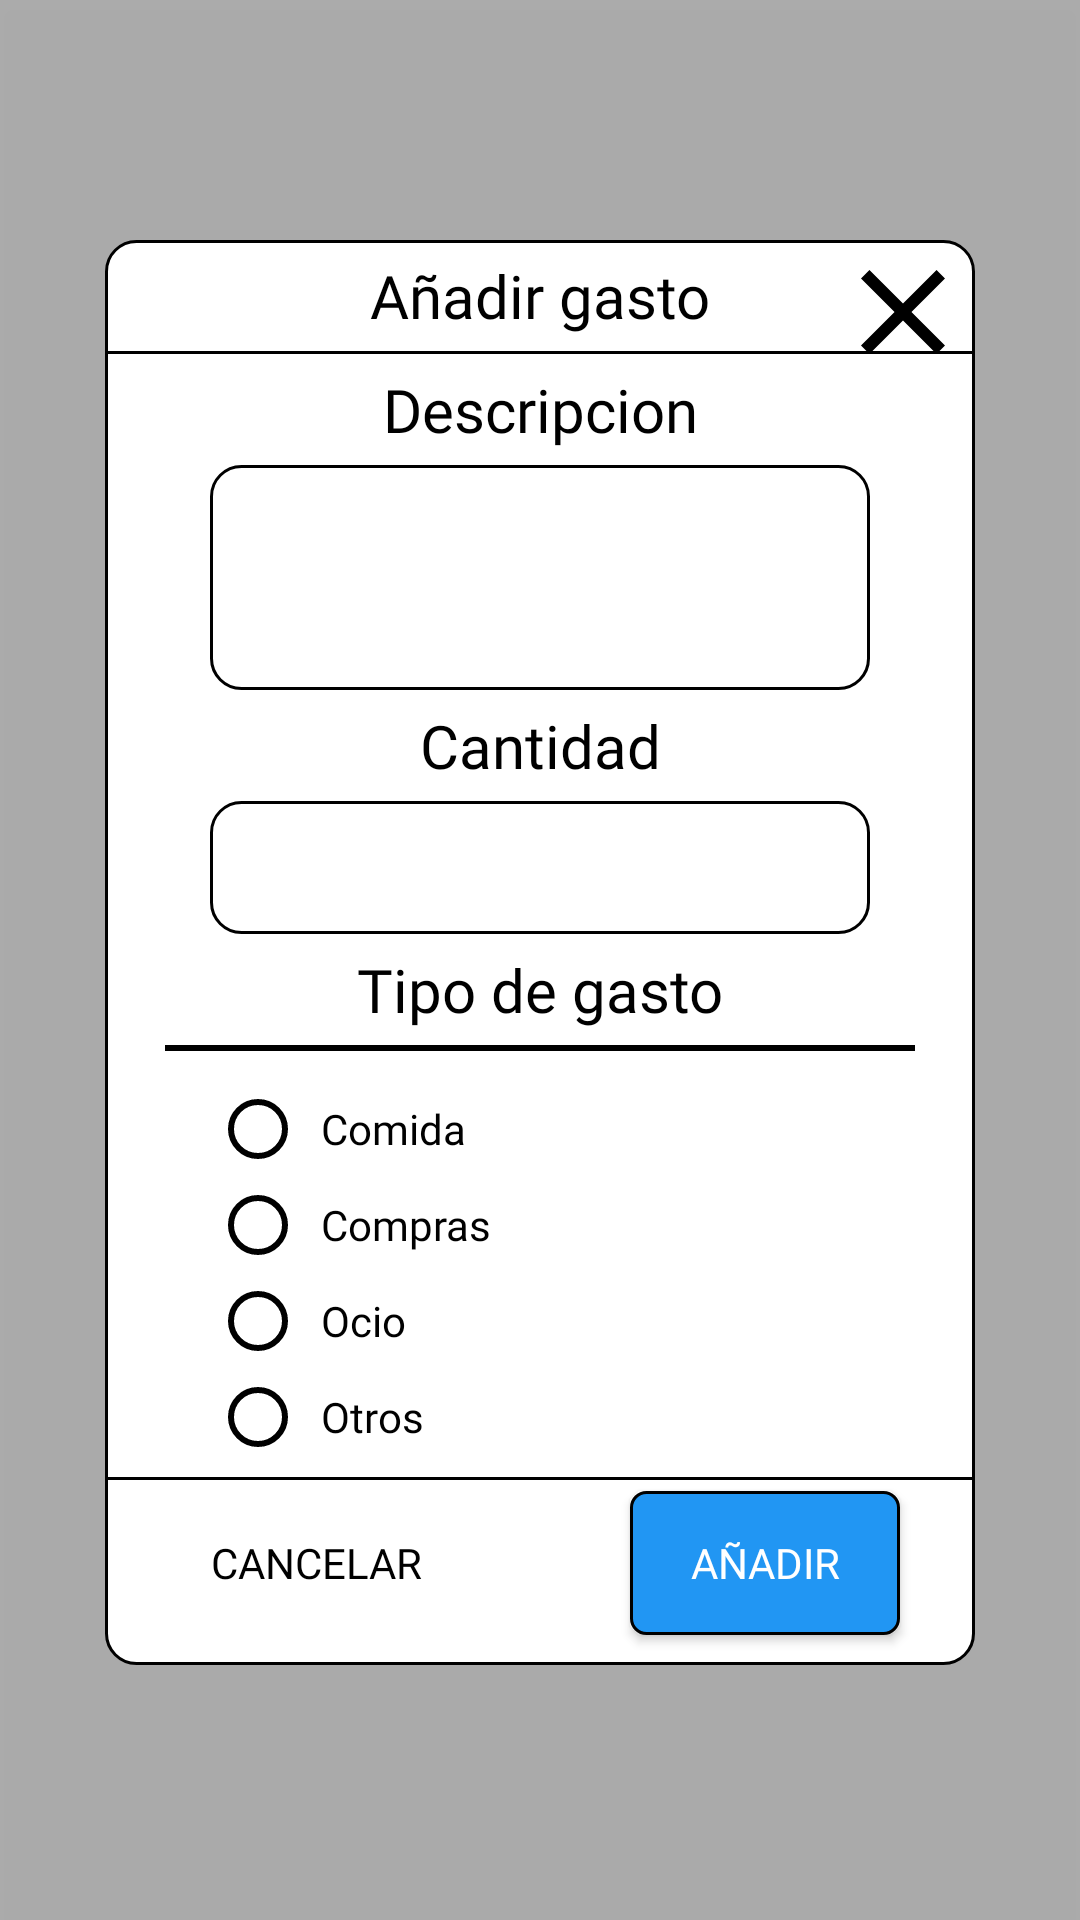

Named icons in this screenshot (1080×1920) and their centers, (x,y):
close: (903,312)
